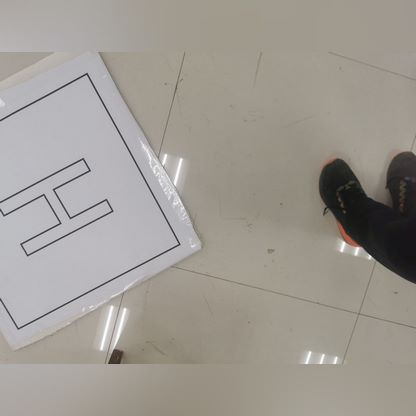H: (0, 141, 122, 283)
